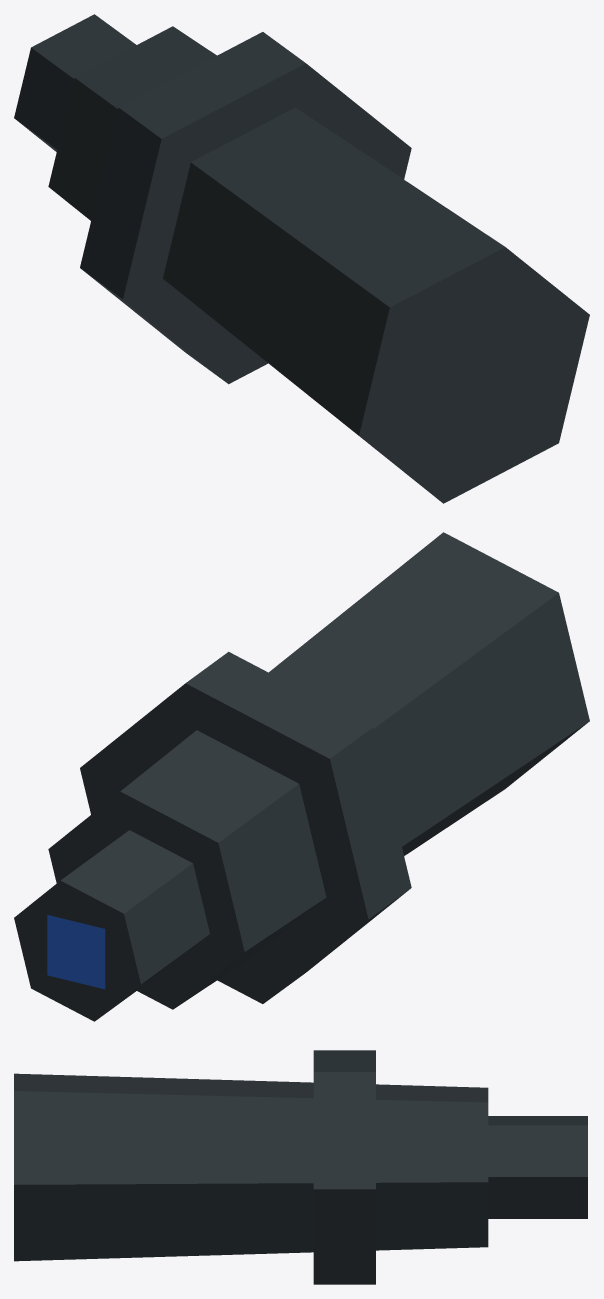
The picture shows the model from 3 angles, top to bottom: view 1: azimuth 30°, elevation 25°; view 2: azimuth 150°, elevation 25°; view 3: azimuth 270°, elevation 25°; orthographic projection. The views are drawn at different scales.
Visible parts, largest first — view 1: mount; view 2: mount; view 3: mount.
Part boxes in pixels (x1,y1,x2,y2): mount: (14, 14, 589, 503); mount: (14, 532, 589, 1021); mount: (14, 1050, 587, 1284).
Size of the model in its own units: 3.86 by 3.86 by 9.23.
